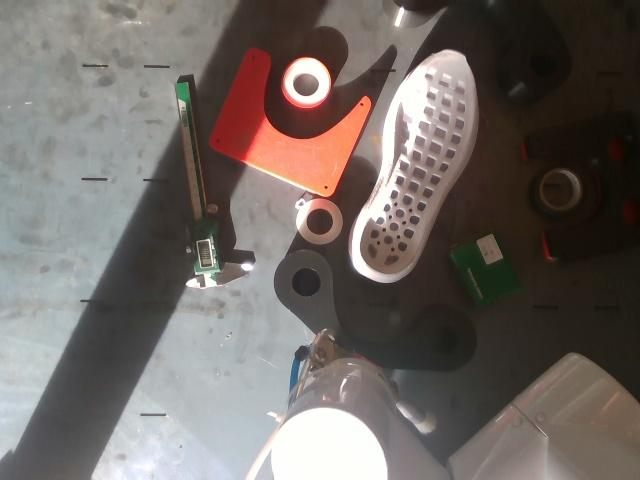shoes: (360, 51, 473, 274)
